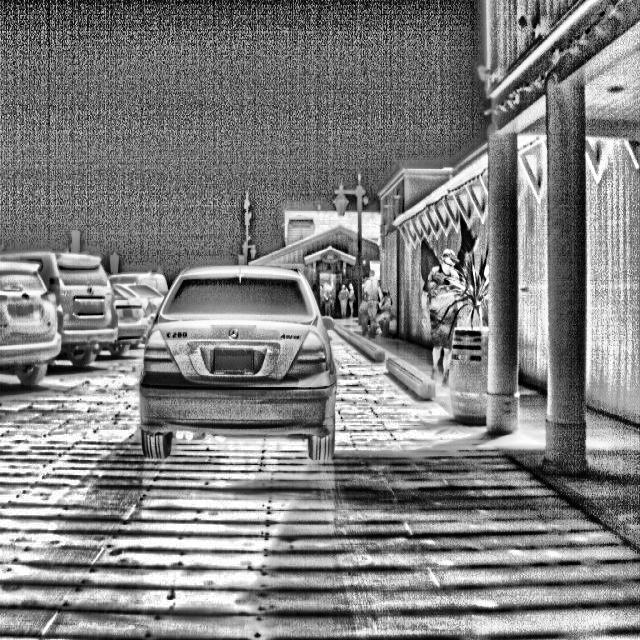car: (150, 258, 345, 474), (1, 229, 110, 395), (93, 249, 179, 358)
person and bycle: (416, 250, 483, 406), (333, 278, 357, 324), (318, 276, 338, 322)
